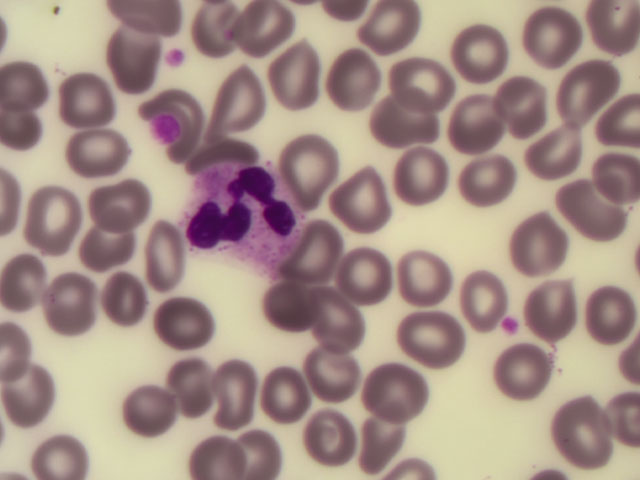Platelets: (152, 116, 179, 143), (165, 47, 188, 76), (502, 315, 517, 335)
RBC: (53, 72, 119, 129), (63, 126, 129, 183), (86, 172, 152, 229), (25, 188, 91, 245), (74, 220, 140, 277), (125, 224, 191, 281), (91, 265, 157, 322), (36, 273, 102, 330), (143, 293, 209, 350), (114, 379, 180, 436), (153, 355, 219, 412), (200, 368, 266, 425), (260, 368, 326, 425), (304, 342, 370, 399), (309, 302, 375, 359), (267, 282, 333, 339), (287, 227, 353, 284), (321, 243, 387, 300), (339, 182, 405, 239), (270, 139, 336, 196), (206, 75, 272, 132), (265, 35, 331, 92), (238, 3, 304, 60), (105, 29, 171, 86), (308, 45, 374, 102), (357, 17, 423, 74), (400, 65, 466, 122), (382, 88, 448, 145), (444, 25, 510, 82), (442, 97, 508, 154), (481, 74, 547, 131), (524, 7, 590, 64), (556, 67, 622, 124), (518, 120, 584, 177), (459, 155, 525, 212), (393, 149, 459, 206), (520, 218, 586, 275), (553, 181, 619, 238), (574, 135, 640, 192), (574, 289, 640, 346), (527, 281, 593, 338), (448, 259, 514, 316), (401, 246, 467, 303), (401, 312, 467, 369), (363, 364, 429, 421), (493, 343, 559, 400), (544, 405, 610, 462), (355, 423, 421, 480), (302, 408, 368, 465), (230, 423, 296, 480), (186, 423, 252, 480), (18, 423, 84, 480), (1, 71, 67, 128), (1, 250, 66, 307), (1, 369, 66, 426), (181, 1, 247, 57)
WBC: (180, 162, 298, 261)
